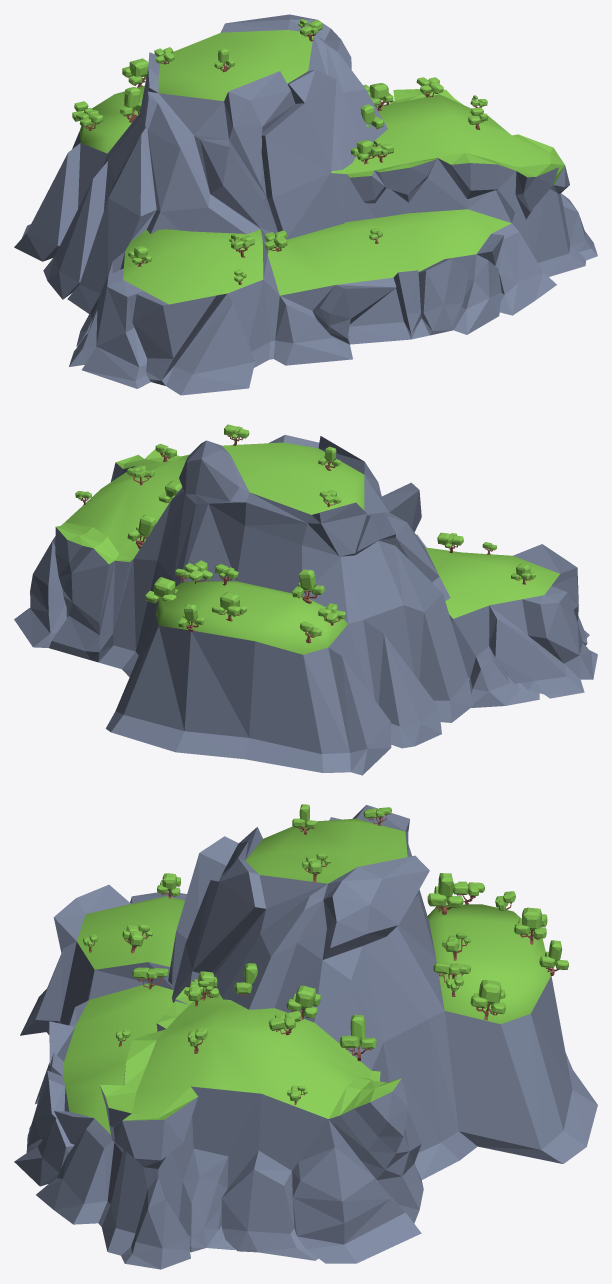
File: geostructures_no4.fbx
3 renders of one model, top to bottom at view 1: azimuth 30°, elevation 25°; view 2: azimuth 150°, elevation 25°; view 3: azimuth 270°, elevation 25°, orthographic. The views are drawn at different scales.
Visible parts, largest first — view 1: landform_04shrubbed:geology, landform_04shrubbed:shrubs; view 2: landform_04shrubbed:geology, landform_04shrubbed:shrubs; view 3: landform_04shrubbed:geology, landform_04shrubbed:shrubs.
Boxes of the visible parts, x1,y1,x2,y2 form: landform_04shrubbed:geology: (14, 14, 597, 395); landform_04shrubbed:shrubs: (72, 19, 488, 284); landform_04shrubbed:geology: (14, 435, 597, 775); landform_04shrubbed:shrubs: (75, 424, 535, 643); landform_04shrubbed:geology: (14, 805, 597, 1269); landform_04shrubbed:shrubs: (83, 804, 568, 1104).
Size of the model in its own units: 50843 by 22433 by 40599.
